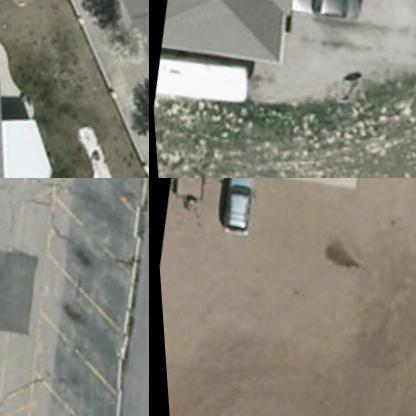car: (215, 178, 262, 242), (280, 0, 373, 30)
